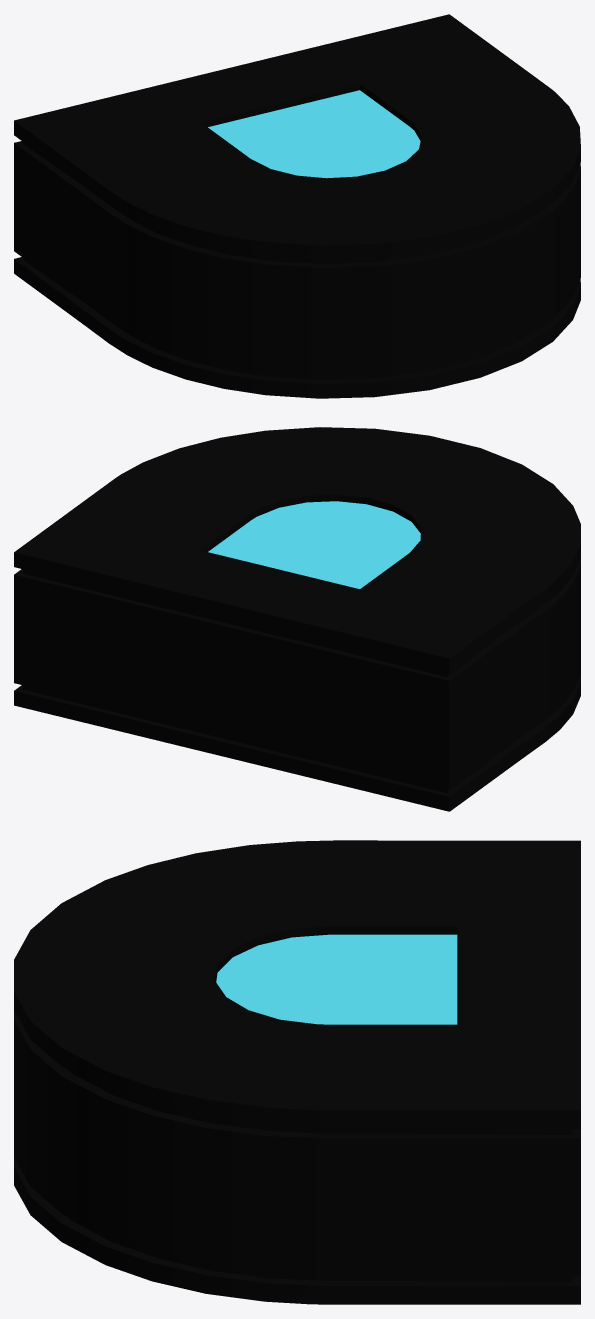
Rendered from SM_WallLight_004.FBX.
3 views of the same model, one above another, from view 1: azimuth 30°, elevation 25°; view 2: azimuth 150°, elevation 25°; view 3: azimuth 270°, elevation 25° (orthographic). The views are drawn at different scales.
Visible parts, largest first — view 1: SM_WallLight_004; view 2: SM_WallLight_004; view 3: SM_WallLight_004.
Boxes of the visible parts, x1=… form: SM_WallLight_004: x1=14, y1=14, x2=580, y2=398; SM_WallLight_004: x1=14, y1=427, x2=580, y2=811; SM_WallLight_004: x1=14, y1=840, x2=580, y2=1304.
Size of the model in its own units: 34.43 by 30.56 by 11.56.
